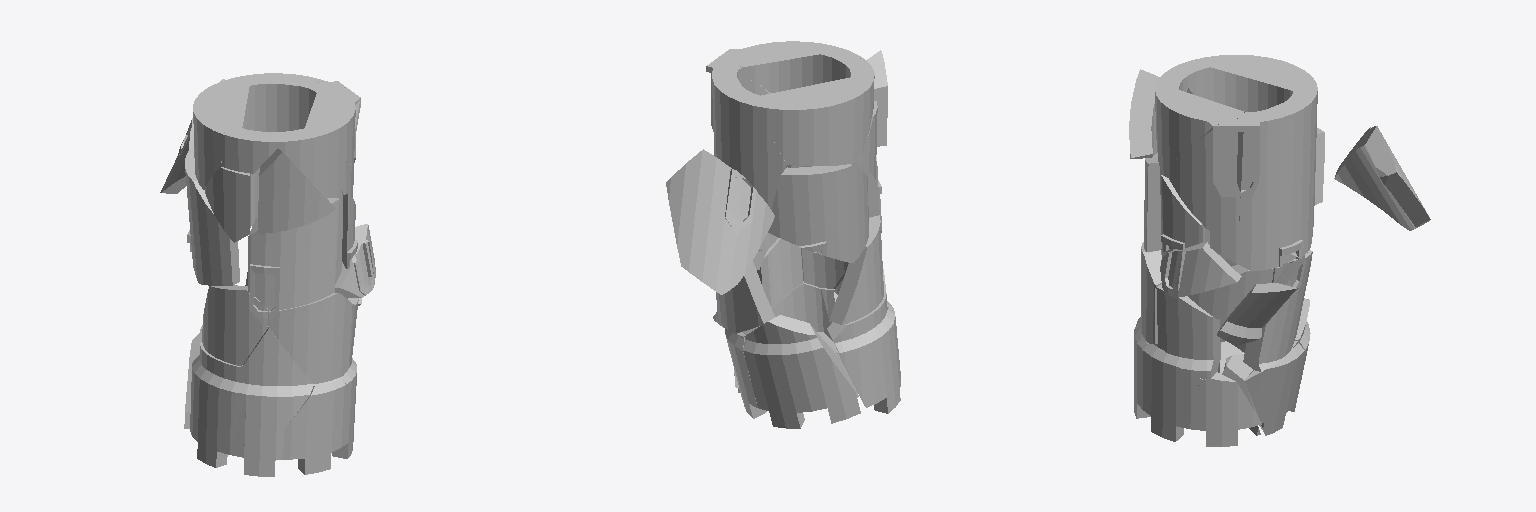
Rendered from destruction_tower_000030.obj.
3 views of the same model, side by side, from view 1: azimuth 30°, elevation 25°; view 2: azimuth 150°, elevation 25°; view 3: azimuth 270°, elevation 25° (orthographic).
Parts seen in each view (by area): view 1: tower.001_cell.024_Mesh.024, tower.001_cell.021_Mesh.021, tower.001_cell.028_Mesh.028, tower.001_cell.006_Mesh.006, tower.001_cell.011_Mesh.011, tower.001_cell.009_Mesh.009, tower.001_cell.002_Mesh.002, tower.001_cell.013_Mesh.013, tower.001_cell.003_Mesh.003, tower.001_cell.017_Mesh.017, tower.001_cell.015_Mesh.015, tower.001_cell.005_Mesh.005 (+8 smaller); view 2: tower.001_cell.025_Mesh.025, tower.001_cell.007_Mesh.007, tower.001_cell.015_Mesh.015, tower.001_cell.003_Mesh.003, tower.001_cell.017_Mesh.017, tower.001_cell.028_Mesh.028, tower.001_cell.005_Mesh.005, tower.001_cell.009_Mesh.009, tower.001_cell.012_Mesh.012, tower.001_cell_Mesh, tower.001_cell.023_Mesh.023, tower.001_cell.021_Mesh.021 (+6 smaller); view 3: tower.001_cell.017_Mesh.017, tower.001_cell.020_Mesh.020, tower.001_cell.025_Mesh.025, tower.001_cell.015_Mesh.015, tower.001_cell.028_Mesh.028, tower.001_cell_Mesh, tower.001_cell.030_Mesh.030, tower.001_cell.012_Mesh.012, tower.001_cell.010_Mesh.010, tower.001_cell.023_Mesh.023, tower.001_cell.029_Mesh.029, tower.001_cell.026_Mesh.026 (+12 smaller).
Boxes of the visible parts, <box> form: tower.001_cell.024_Mesh.024: <box>248,198,339,311</box>; tower.001_cell.021_Mesh.021: <box>269,293,352,385</box>; tower.001_cell.028_Mesh.028: <box>270,93,360,197</box>; tower.001_cell.006_Mesh.006: <box>196,391,283,476</box>; tower.001_cell.011_Mesh.011: <box>283,379,345,474</box>; tower.001_cell.009_Mesh.009: <box>202,285,268,366</box>; tower.001_cell.002_Mesh.002: <box>258,148,335,233</box>; tower.001_cell.013_Mesh.013: <box>240,327,313,428</box>; tower.001_cell.003_Mesh.003: <box>185,145,239,285</box>; tower.001_cell.017_Mesh.017: <box>231,73,323,225</box>; tower.001_cell.015_Mesh.015: <box>193,79,249,189</box>; tower.001_cell.005_Mesh.005: <box>190,342,242,439</box>; tower.001_cell.025_Mesh.025: <box>666,149,774,294</box>; tower.001_cell.007_Mesh.007: <box>743,315,860,428</box>; tower.001_cell.015_Mesh.015: <box>756,77,872,165</box>; tower.001_cell.003_Mesh.003: <box>768,164,868,262</box>; tower.001_cell.017_Mesh.017: <box>712,71,791,209</box>; tower.001_cell.028_Mesh.028: <box>730,41,861,93</box>; tower.001_cell.005_Mesh.005: <box>827,292,895,407</box>; tower.001_cell.009_Mesh.009: <box>829,215,883,324</box>; tower.001_cell.012_Mesh.012: <box>713,261,774,333</box>; tower.001_cell_Mesh: <box>757,238,802,309</box>; tower.001_cell.023_Mesh.023: <box>772,281,837,352</box>; tower.001_cell.021_Mesh.021: <box>801,248,848,288</box>; tower.001_cell.017_Mesh.017: <box>1266,88,1317,258</box>; tower.001_cell.020_Mesh.020: <box>1167,120,1243,231</box>; tower.001_cell.025_Mesh.025: <box>1334,126,1430,230</box>; tower.001_cell.015_Mesh.015: <box>1210,55,1317,111</box>; tower.001_cell.028_Mesh.028: <box>1155,73,1244,170</box>; tower.001_cell_Mesh: <box>1156,284,1220,379</box>; tower.001_cell.030_Mesh.030: <box>1161,372,1261,446</box>; tower.001_cell.012_Mesh.012: <box>1243,250,1312,371</box>; tower.001_cell.010_Mesh.010: <box>1160,242,1241,297</box>; tower.001_cell.023_Mesh.023: <box>1145,343,1202,436</box>; tower.001_cell.029_Mesh.029: <box>1244,341,1304,435</box>; tower.001_cell.026_Mesh.026: <box>1236,110,1265,231</box>.
Bounding box in the file's own units: 54.22 × 95.97 × 79.28.